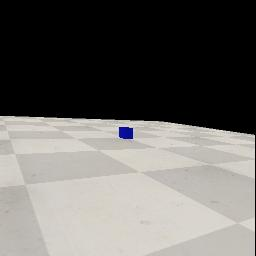box: (119, 127, 133, 139)
